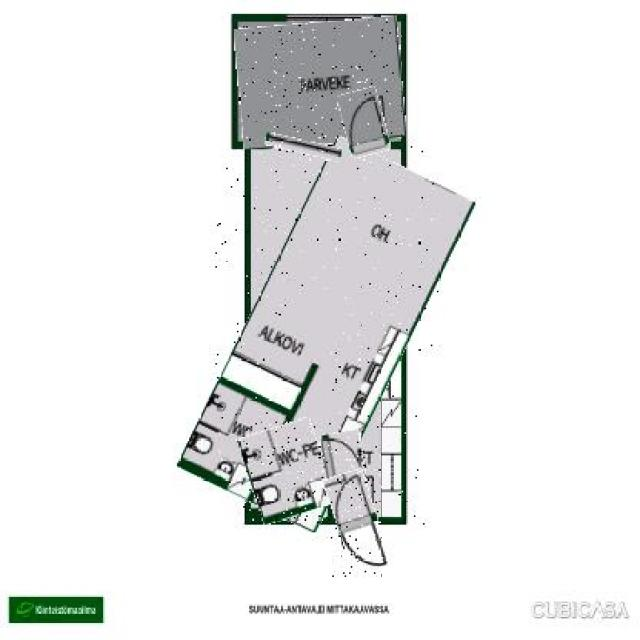door: (331, 469, 386, 578), (342, 89, 388, 157), (320, 431, 366, 483)
window: (264, 137, 342, 158)
zone: (214, 143, 438, 526), (237, 19, 403, 146), (243, 422, 331, 520)
